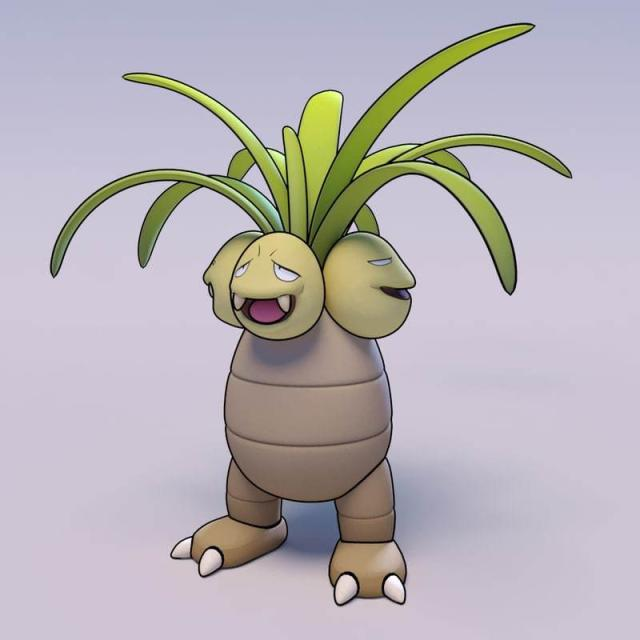Exeggutor: (183, 135, 447, 618)
